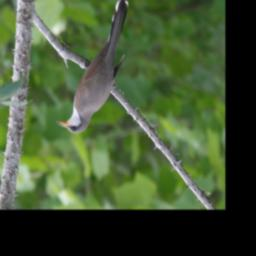Cuckoo: (56, 0, 131, 135)
